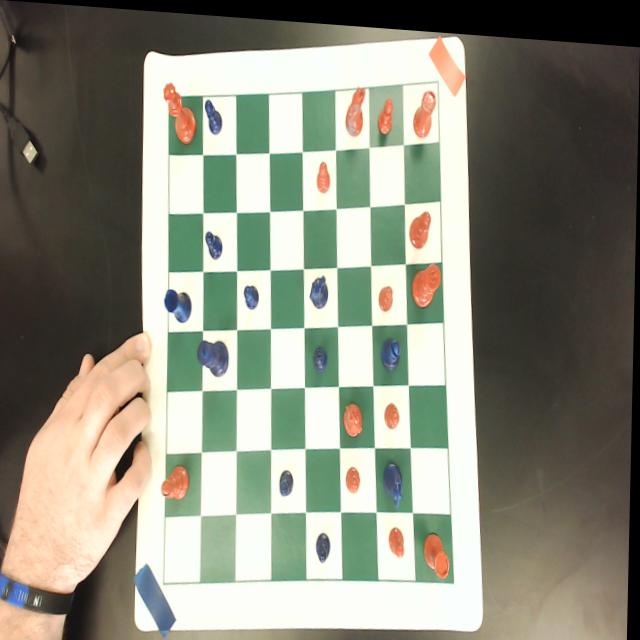B: (383, 330, 402, 367)
K: (199, 335, 231, 376)
N: (385, 455, 407, 505), (309, 270, 330, 307)
P: (204, 96, 223, 132), (206, 226, 224, 257), (318, 526, 333, 559), (281, 463, 296, 494), (244, 280, 261, 306), (315, 341, 329, 369)
R: (165, 286, 193, 322)
b: (163, 460, 192, 502), (410, 203, 432, 244)
cb: (166, 75, 456, 581)
k: (413, 255, 442, 303)
n: (345, 78, 368, 133), (345, 395, 366, 434)
p: (378, 91, 394, 132), (316, 155, 333, 190), (391, 520, 407, 553), (379, 277, 395, 308), (386, 395, 403, 424), (347, 460, 363, 489)
q: (163, 78, 198, 142)
r: (424, 523, 453, 574), (412, 81, 437, 133)
